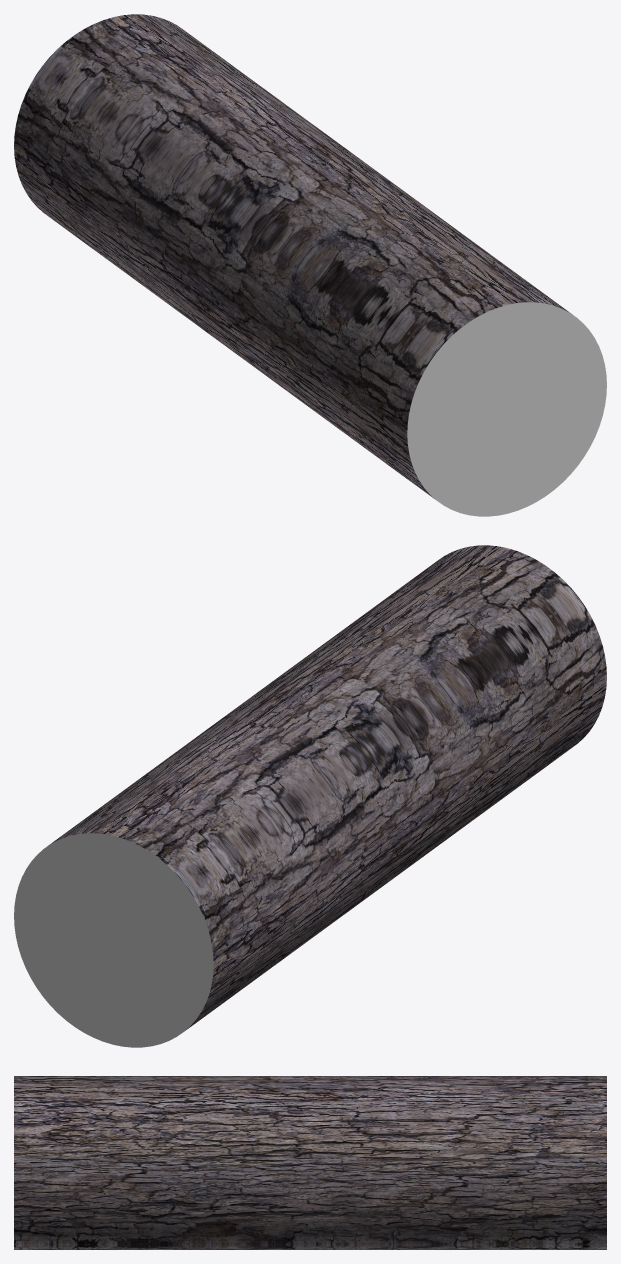
File: woodTxt.obj
3 renders of one model, top to bottom at view 1: azimuth 30°, elevation 25°; view 2: azimuth 150°, elevation 25°; view 3: azimuth 270°, elevation 25°, orthographic. The views are drawn at different scales.
Visible parts, largest first — view 1: Cylinder; view 2: Cylinder; view 3: Cylinder.
Boxes of the visible parts, <box> form: Cylinder: <box>14,14,606,516</box>; Cylinder: <box>14,545,606,1047</box>; Cylinder: <box>14,1076,606,1249</box>.
Bounding box in the file's own units: 1.59 × 1.59 × 5.43.
